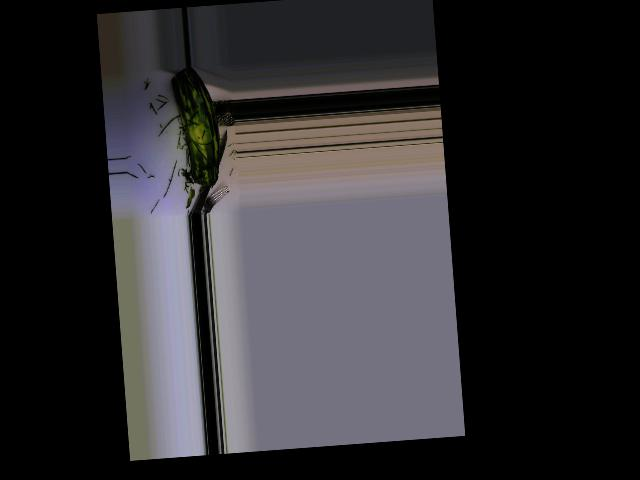cucumber: (170, 66, 222, 189)
